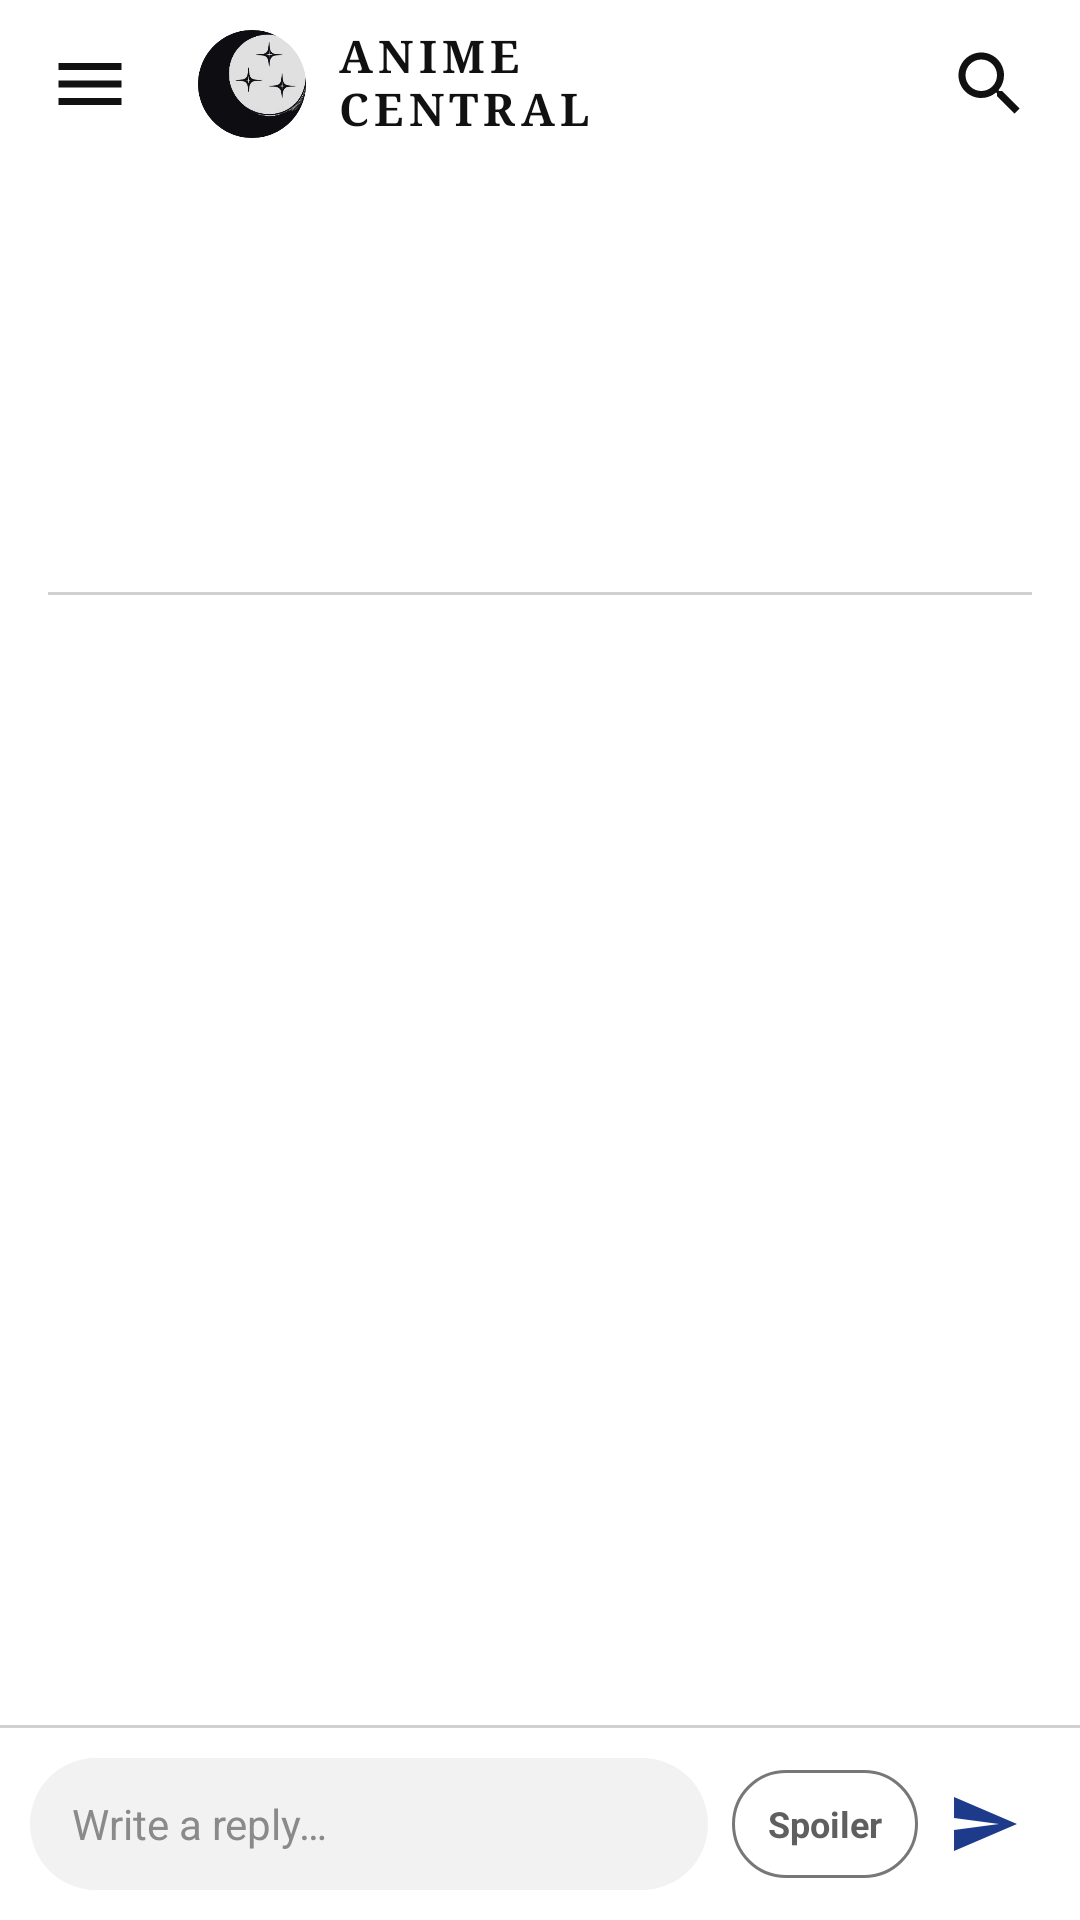

Point at icon controls on the screen. Image size 1080px×1920px, points as point (x, y).
Menu: point (90, 84)
Search: point (989, 83)
Send reply: point (985, 1824)
